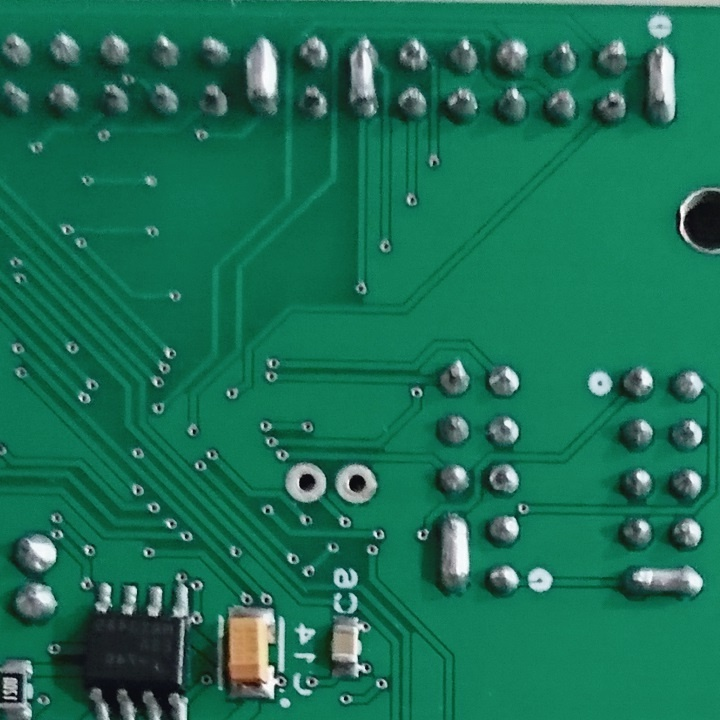F: (334, 459, 381, 508), (282, 459, 329, 505)
P: (340, 32, 385, 124), (240, 33, 287, 117), (640, 39, 682, 128), (618, 561, 704, 601), (437, 508, 473, 600)
